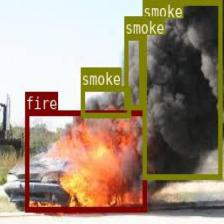fire: (24, 110, 146, 211)
smoke: (142, 0, 221, 178), (80, 85, 130, 117), (124, 34, 142, 108)
